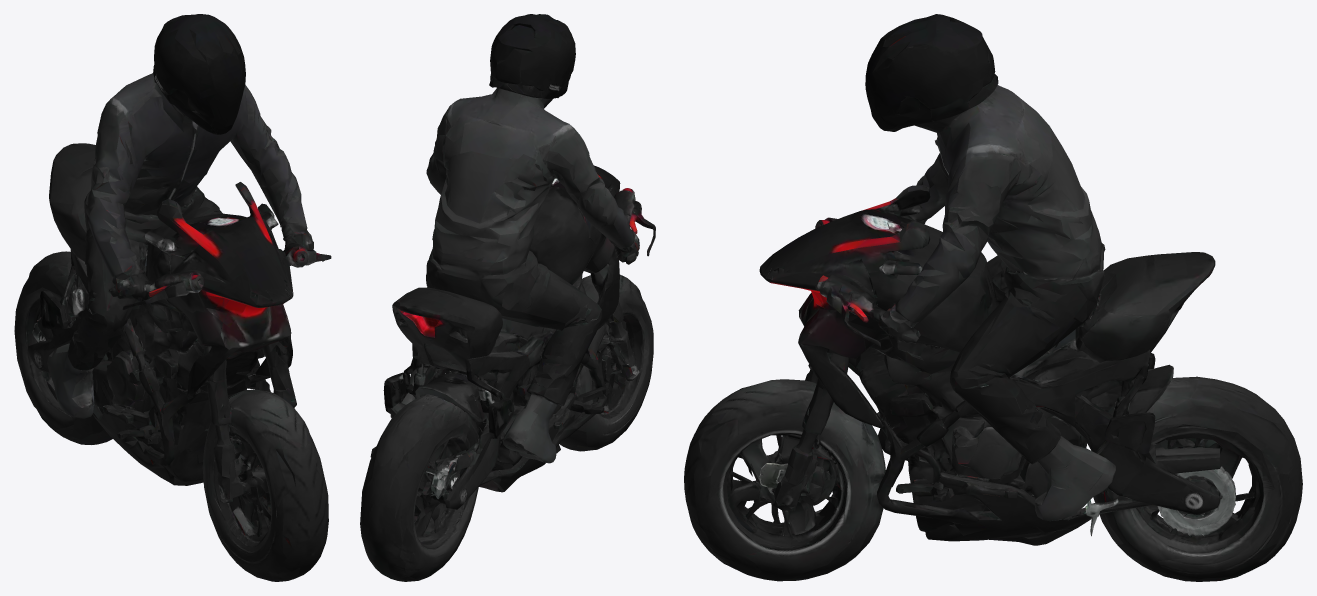
The model's file is bike.glb.
3 views of the same model, side by side, from view 1: azimuth 30°, elevation 25°; view 2: azimuth 150°, elevation 25°; view 3: azimuth 270°, elevation 25° (orthographic). The views are drawn at different scales.
Size of the model in its own units: 0.7955 by 1.9 by 1.9.
1 material, 1 textured.
